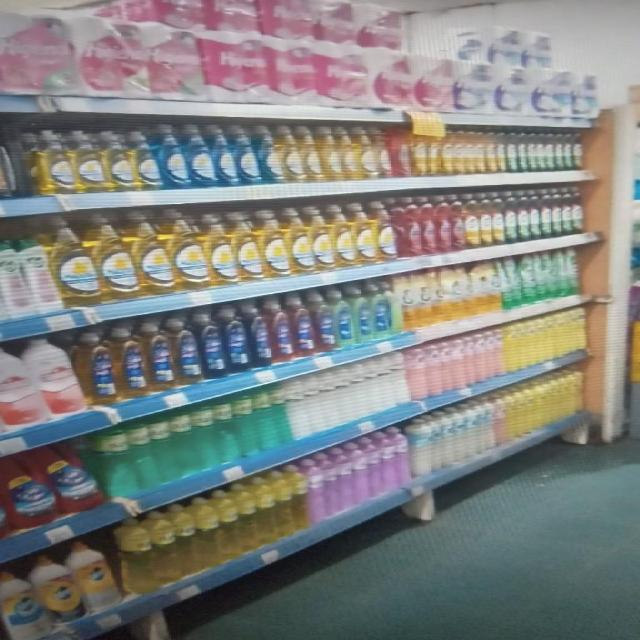magistral_con_amarillo: (52, 217, 98, 307), (98, 215, 136, 301), (136, 212, 171, 296), (173, 212, 207, 290), (36, 130, 74, 195), (75, 129, 105, 194), (209, 212, 235, 286), (236, 210, 262, 282), (263, 209, 289, 279), (106, 130, 134, 193)
magistral_con_azul: (160, 124, 187, 190), (187, 124, 214, 188), (135, 129, 159, 192), (214, 125, 233, 187)
